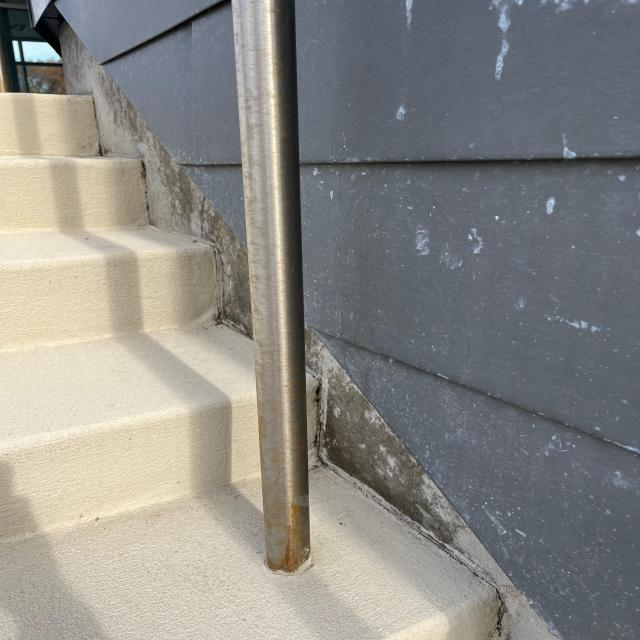Uniform Corrosion: (254, 309, 310, 574), (299, 370, 307, 452)
